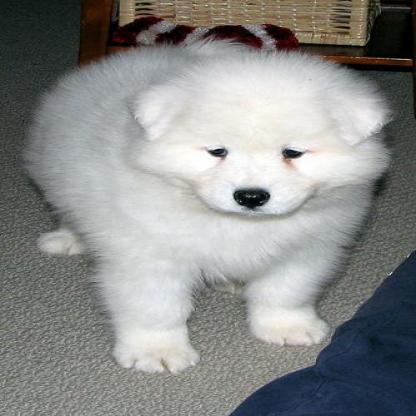Samoyed: (20, 33, 395, 374)
